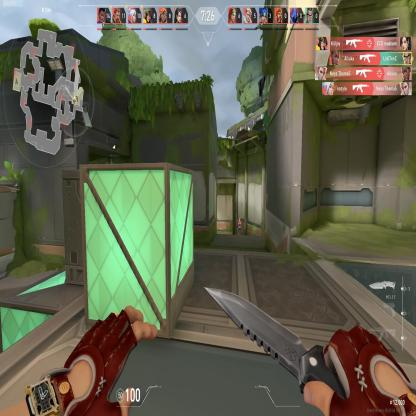enemy: (236, 215, 242, 235)
